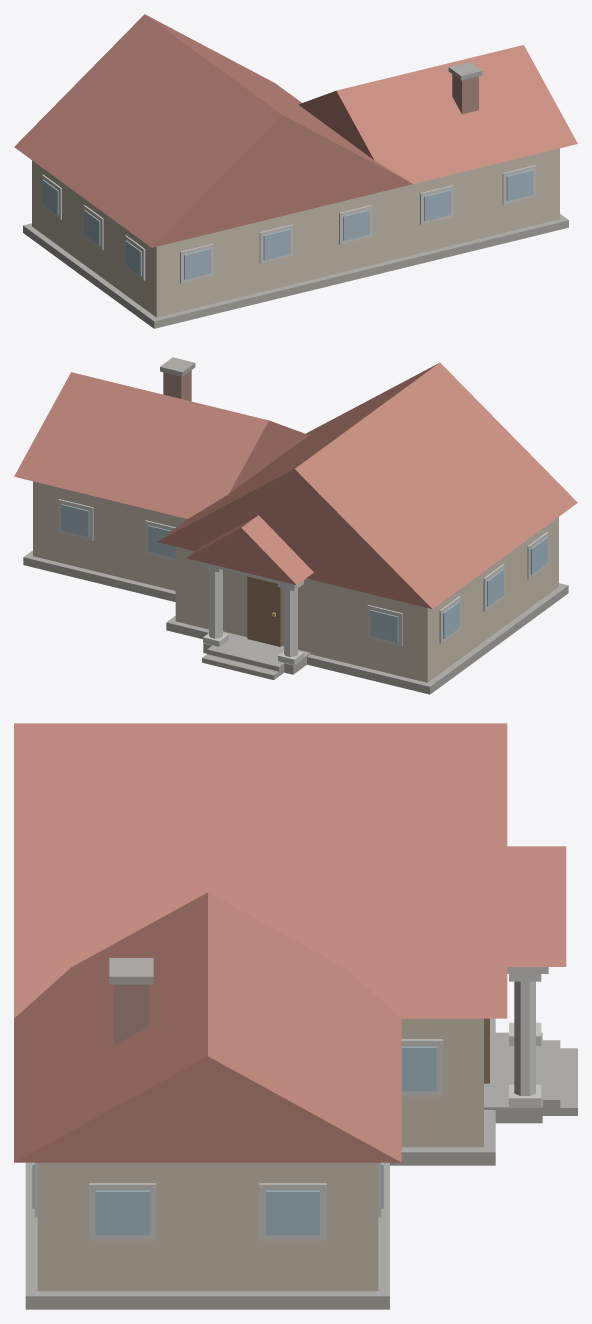
Rendered from casa-n03-a1bf883a.glb.
The picture shows the model from 3 angles, top to bottom: view 1: azimuth 30°, elevation 25°; view 2: azimuth 150°, elevation 25°; view 3: azimuth 270°, elevation 25°; orthographic projection. The views are drawn at different scales.
Bounding box in the file's own units: 15 × 6.25 × 9.6.
